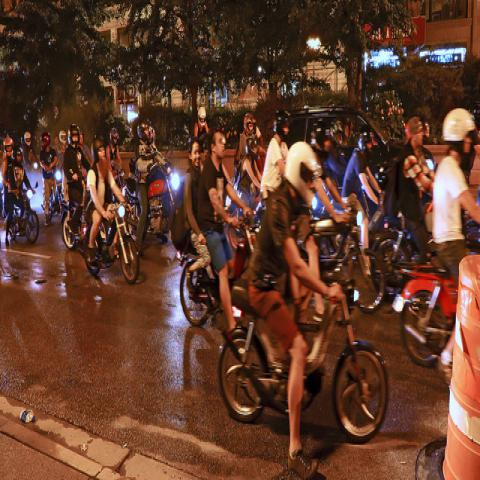car: (286, 104, 436, 186)
motorcycle: (220, 288, 388, 443), (175, 211, 261, 326), (310, 217, 387, 315), (394, 264, 458, 367), (122, 145, 183, 243), (368, 194, 420, 300), (82, 200, 138, 284), (226, 184, 261, 252), (9, 181, 39, 244), (41, 166, 65, 224), (59, 201, 78, 249)
